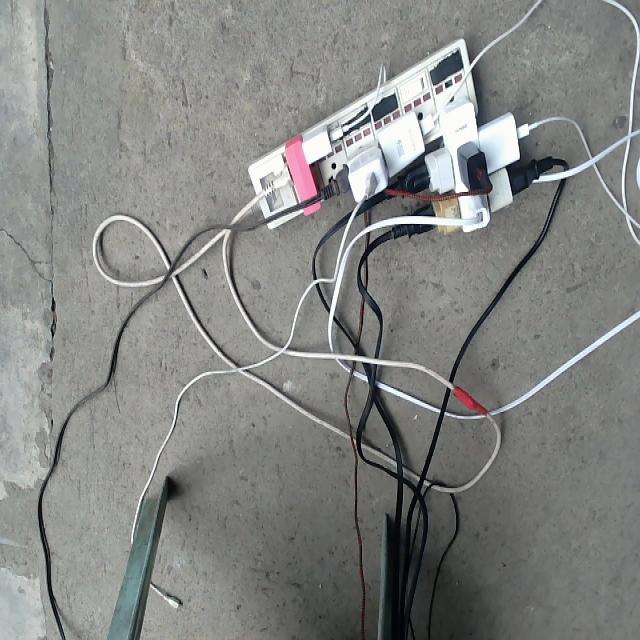-: (235, 39, 572, 285)
